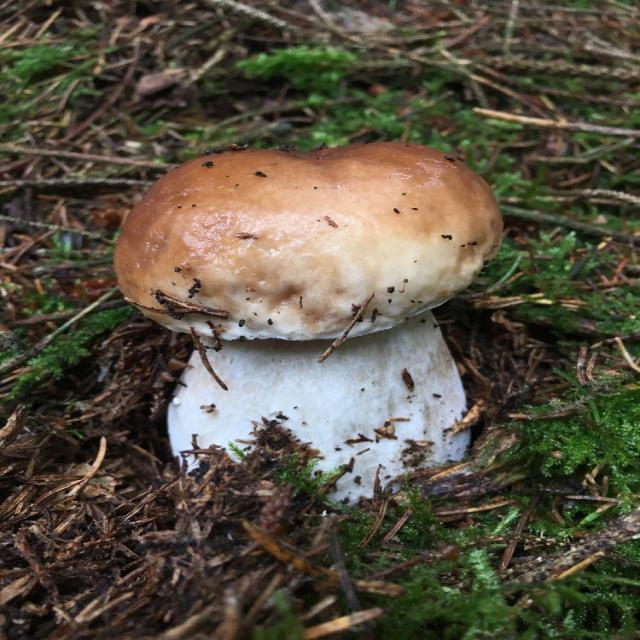Boletus: (118, 145, 503, 509)
